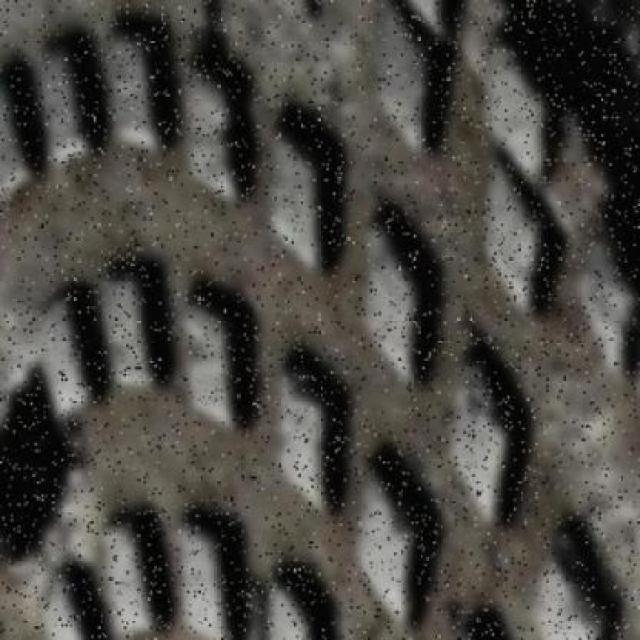Manhole: (6, 9, 637, 636)
